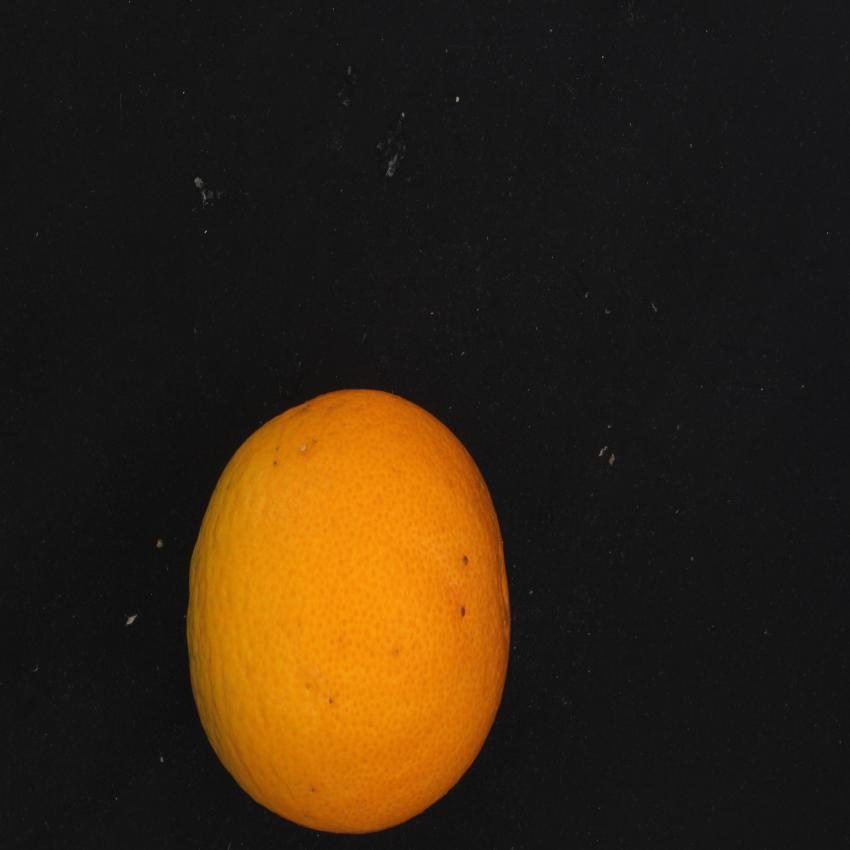Buen estado: (173, 369, 524, 850)
